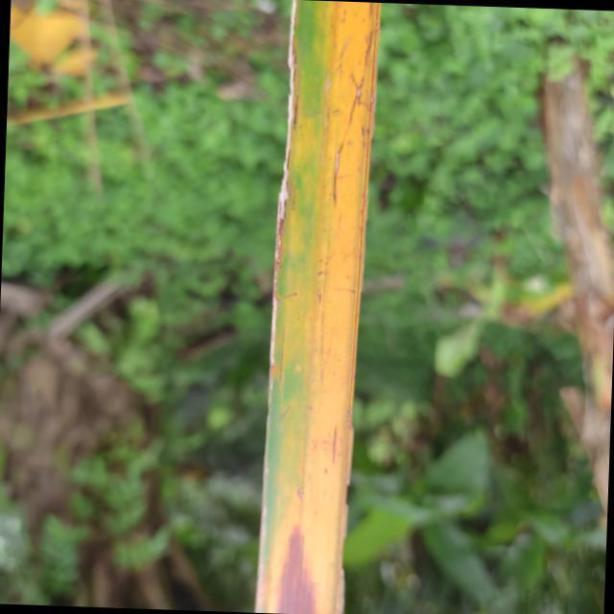Megnesium: (252, 0, 373, 614)
